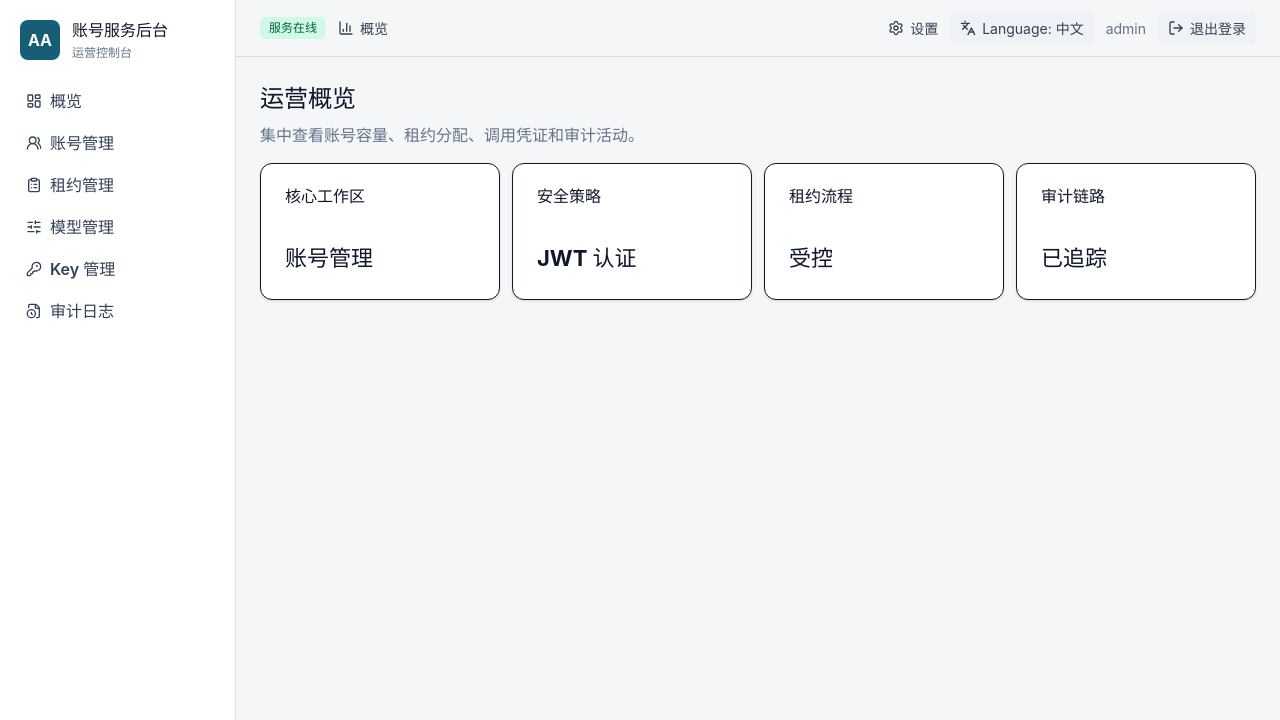
it: App › switches the interface language between Chinese and English
Expected: the heading "运营概览" is shown, 260,84 -> 356,113
Click the button "Language: 中文".
click(1022, 28)  # box 950,12 -> 1094,44
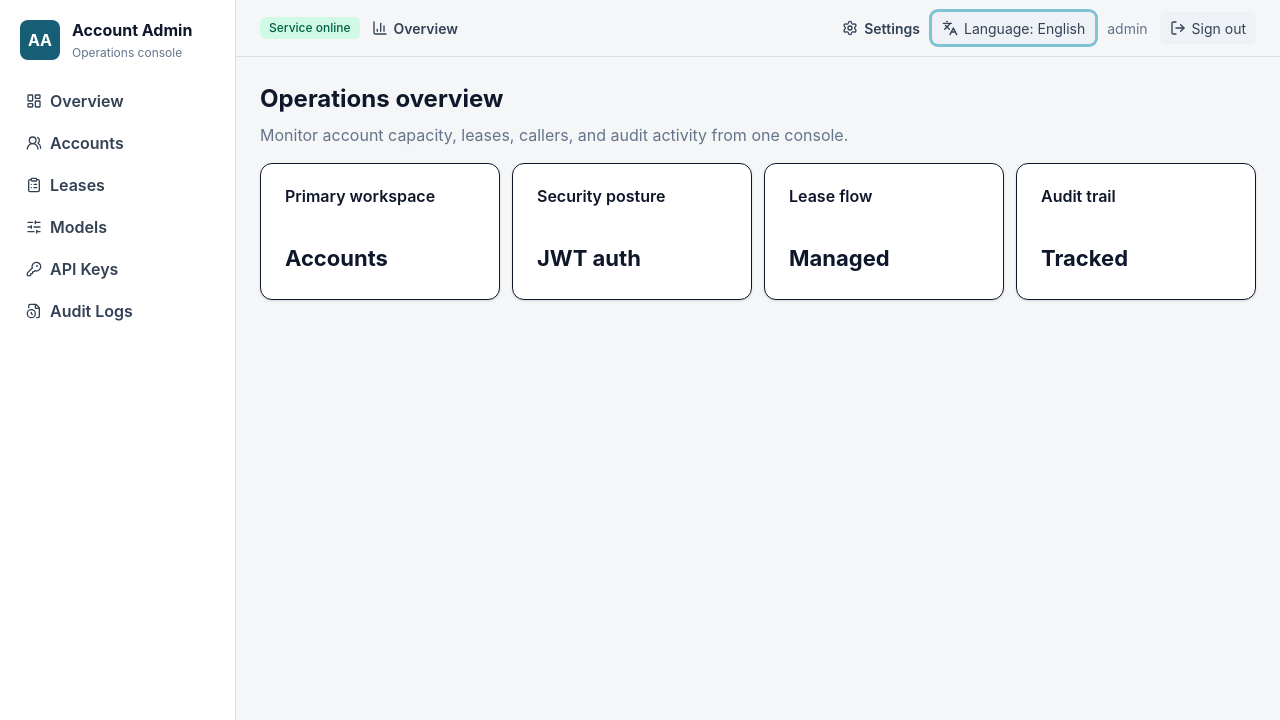
Expected: the heading "Operations overview" is shown, 260,84 -> 503,113
Expected: the button "Language: English" is shown, 932,12 -> 1095,44
